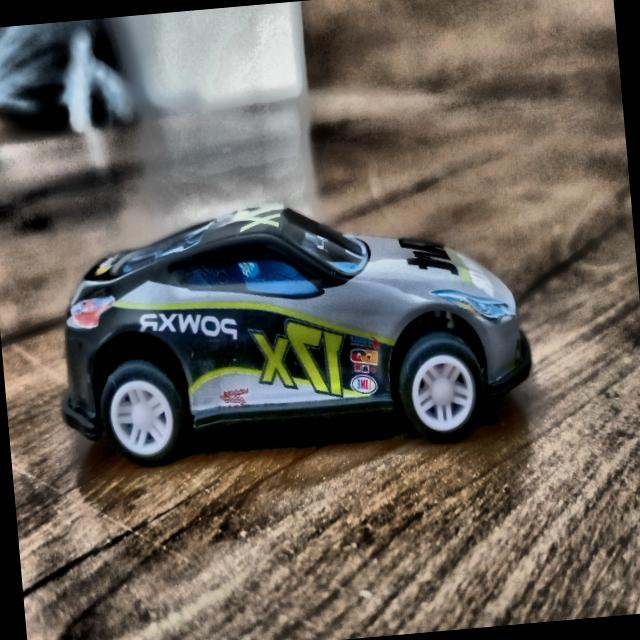Car: (42, 170, 546, 476)
